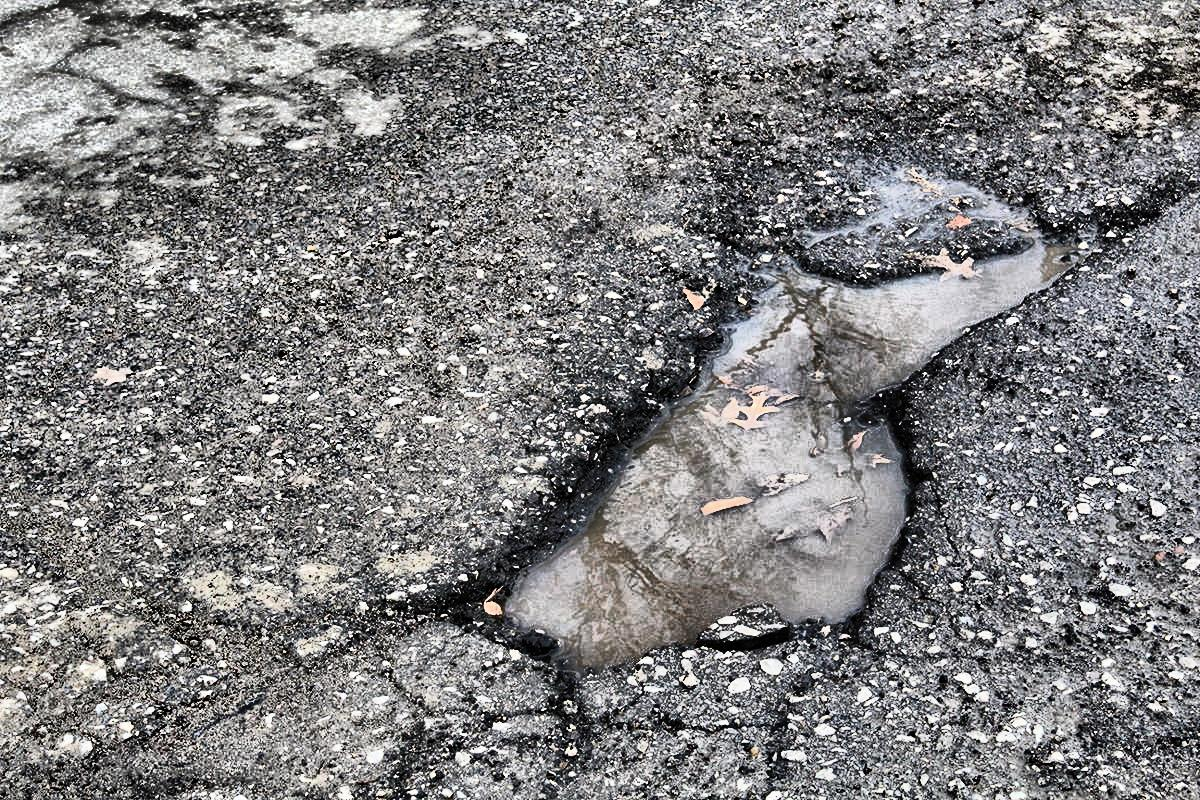pothole: (453, 219, 1111, 667)
